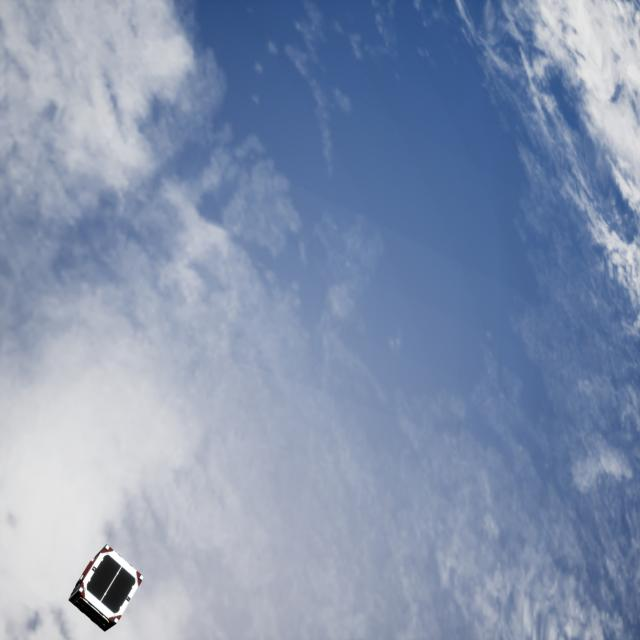satellite: (66, 539, 148, 633)
